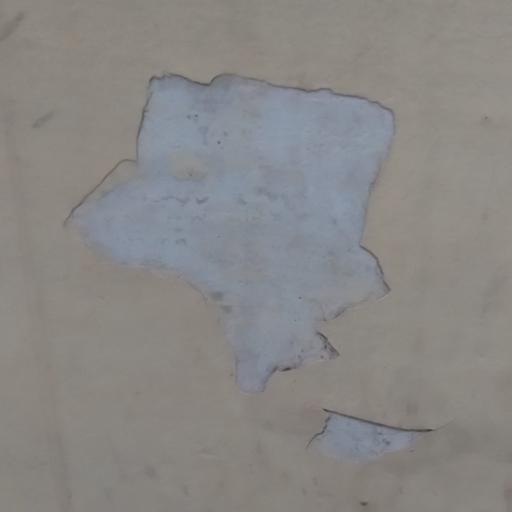peeling: (53, 48, 430, 408), (308, 387, 450, 471)
